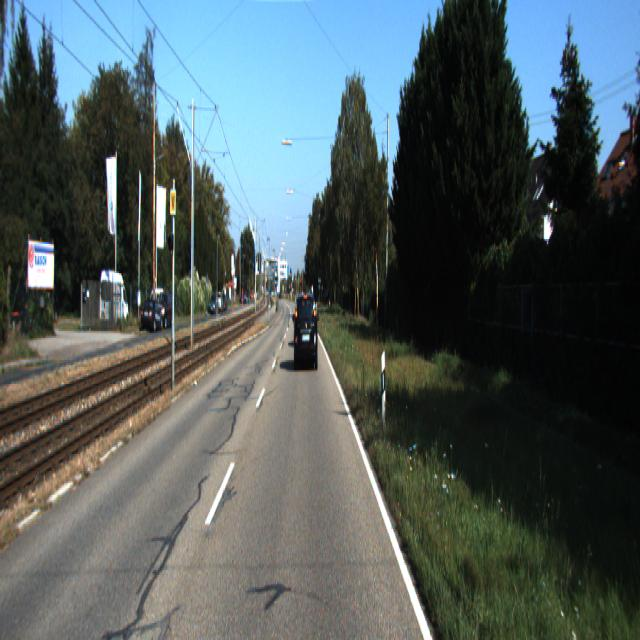Car: (294, 290, 319, 370), (99, 270, 130, 330), (140, 298, 165, 334)
DontCare: (208, 290, 227, 316), (241, 286, 255, 302)
